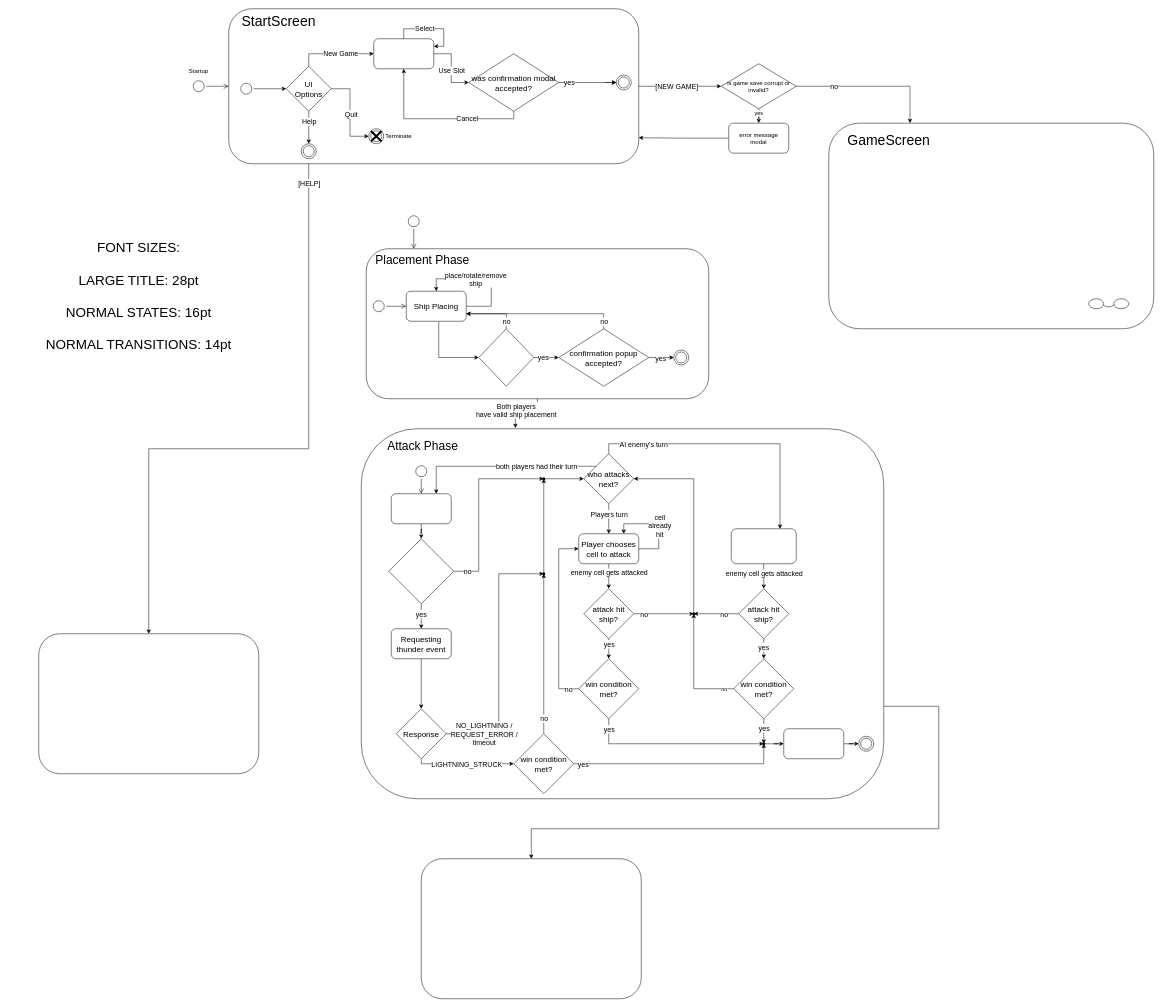
The diagram is 1163 pixels wide and 1008 high, and some of its shapes have lost their labels. Each missing label, with the centre of its shape:
"AI enemy chooses cell to attack" belongs at (x=763, y=546).
"EndScreen" belongs at (x=531, y=928).
"Game Over" belongs at (x=813, y=743).
"GameSaveSlot Selection" belongs at (x=403, y=53).
"HelpPage" belongs at (x=148, y=703).
"Placement valid?" belongs at (x=506, y=357).
"Start of round" belongs at (x=421, y=508).
"thunder event available?" belongs at (x=421, y=571).
